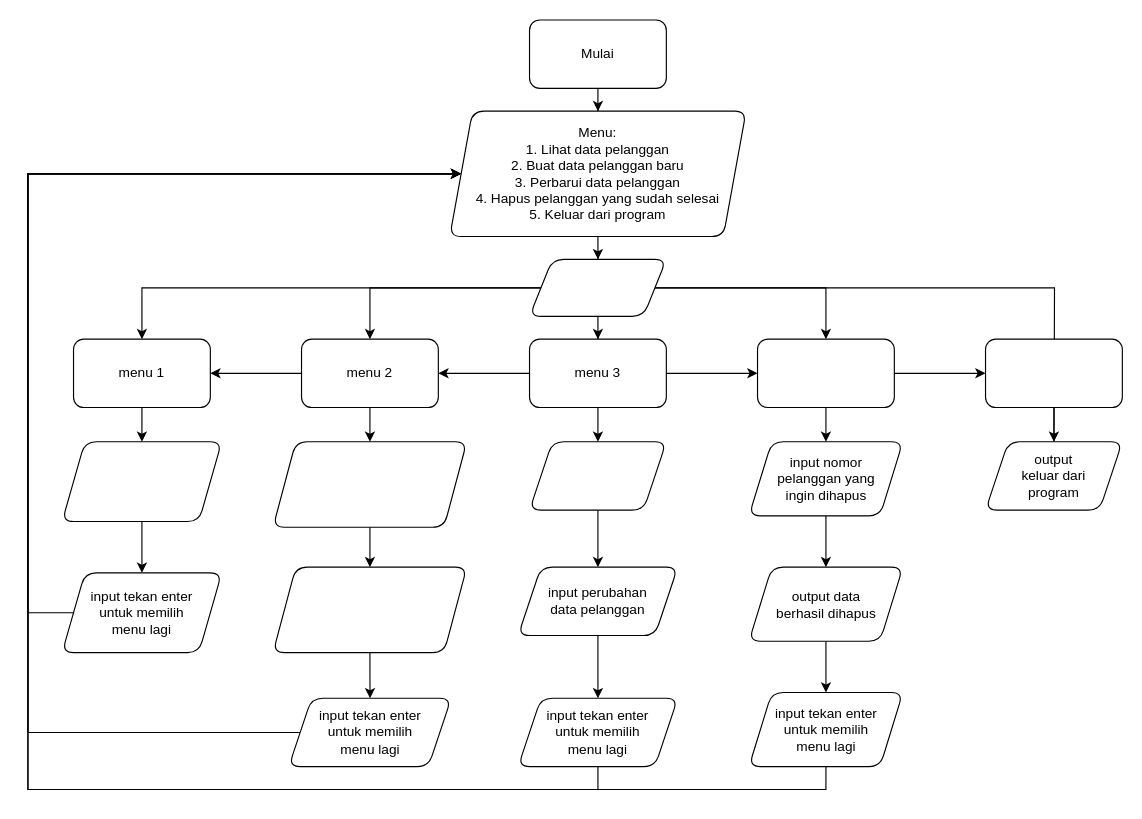
Image size: 1142x819. Some labels were removed from this diagram. Here are the shapes that lost their labels. From the top down, the centre of each, then its label:
At point (597, 287): "input menu".
At point (825, 373): "menu 4".
At point (1053, 373): "menu 5".
At point (141, 481): "output menampilkan data pelanggan".
At point (369, 484): "input nama pelanggan, tanggal booking, paket, dan harga paket baru".
At point (597, 475): "input nomor pelanggan yang ingin diubah".
At point (369, 609): "output data pelanggan baru berhasil ditambahkan".
